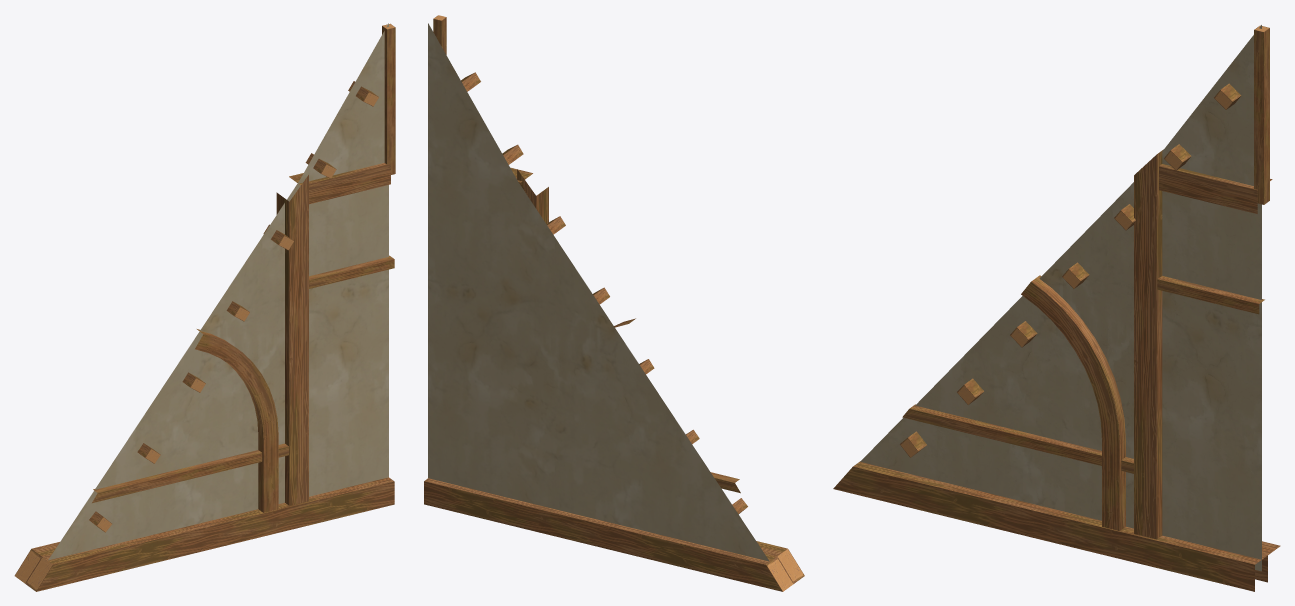
Rendered from roof-front-brick8-half-l.glb.
3 renders of one model, left to right at view 1: azimuth 30°, elevation 25°; view 2: azimuth 150°, elevation 25°; view 3: azimuth 330°, elevation 25°, orthographic. The views are drawn at different scales.
Parts seen in each view (by area): view 1: Roof_Front_Brick8_Half_L; view 2: Roof_Front_Brick8_Half_L; view 3: Roof_Front_Brick8_Half_L.
Part boxes in pixels (box(x1,y1,x2,y2)): Roof_Front_Brick8_Half_L: box(14, 23, 395, 591); Roof_Front_Brick8_Half_L: box(424, 15, 804, 591); Roof_Front_Brick8_Half_L: box(833, 25, 1280, 591).
Size of the model in its own units: 4.33 by 5.45 by 0.4896.
Materials: 2 (2 with a texture image).
